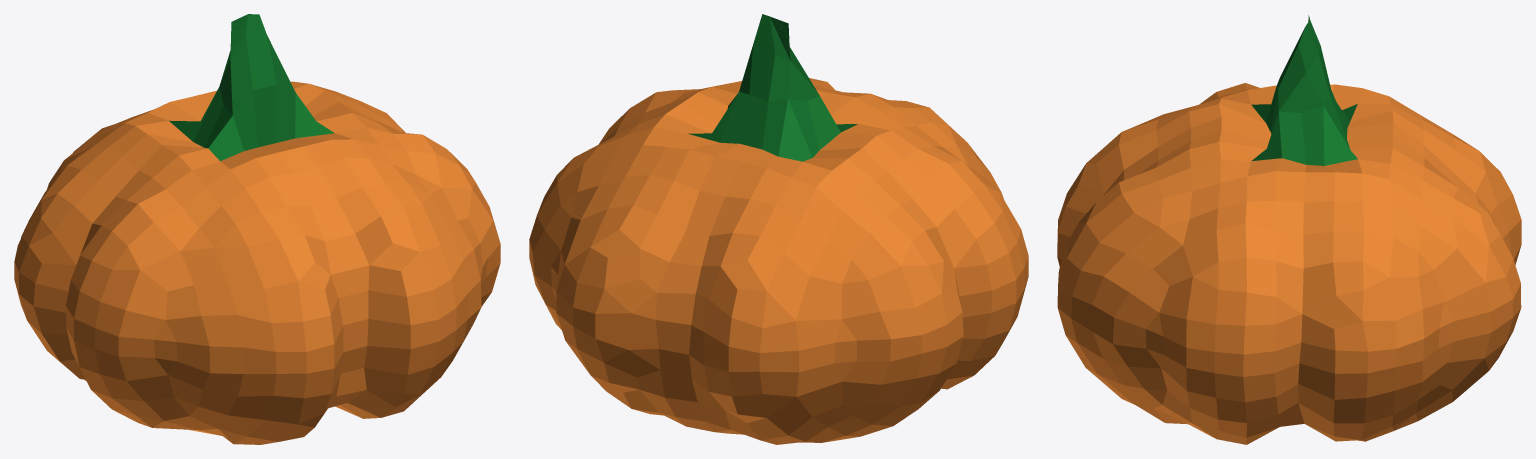
File: PumpkinColor.fbx
3 views of the same model, side by side, from view 1: azimuth 30°, elevation 25°; view 2: azimuth 150°, elevation 25°; view 3: azimuth 270°, elevation 25° (orthographic). The views are drawn at different scales.
Visible parts, largest first — view 1: Group14; view 2: Group14; view 3: Group14.
Boxes of the visible parts, <box> form: Group14: <box>14,14,500,444</box>; Group14: <box>529,14,1028,444</box>; Group14: <box>1057,15,1521,444</box>.
Size of the model in its own units: 197 by 169 by 189.
